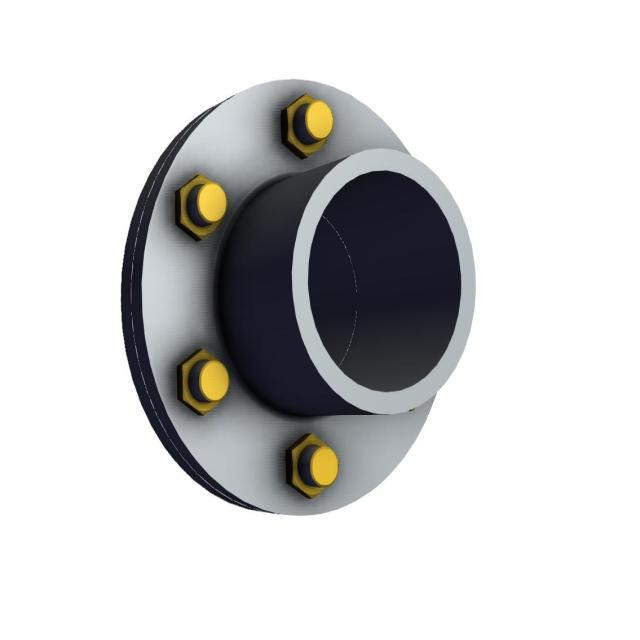bolt nut: (174, 171, 225, 243), (175, 348, 228, 417), (285, 432, 338, 500), (279, 92, 330, 162)
